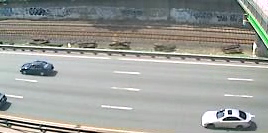car: (198, 105, 256, 130), (19, 59, 58, 79)
